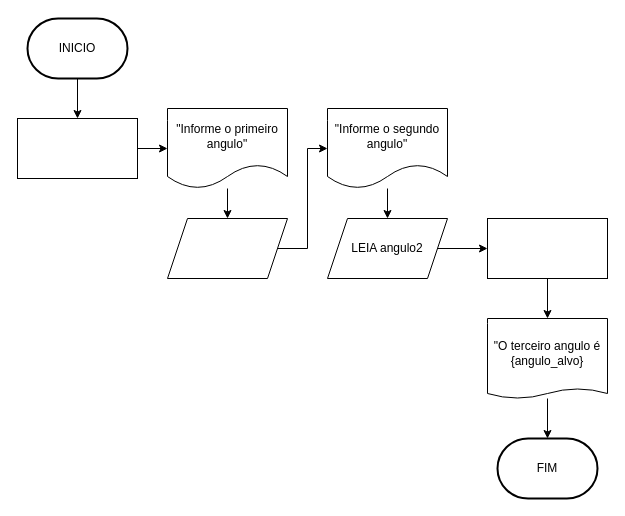
Image size: 625x516. Some labels were removed from this diagram. The box of each missing label's shape, as (x1, y1, x2, y2) in pixels:
angulo_alvo = 180 - (angulo1 + angulo2): (486, 218, 608, 278)
DECLARE angulo1, angulo2 e angulo_alvo: (16, 118, 138, 178)
LEIA angulo1: (166, 218, 288, 278)
